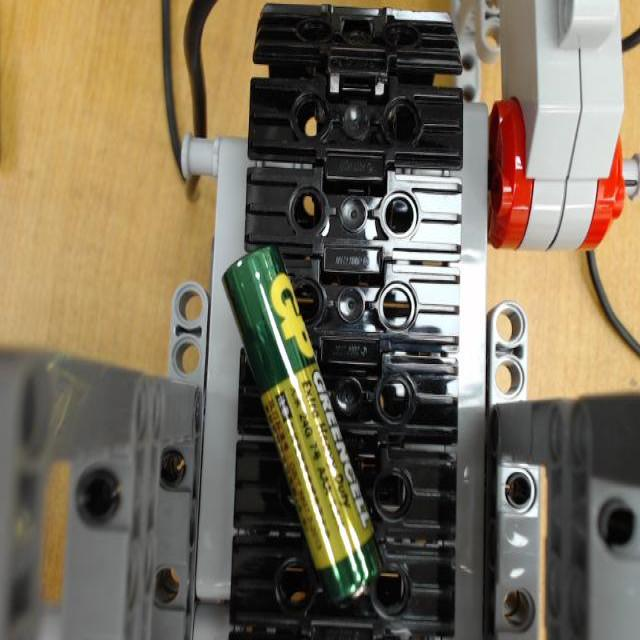AAA: (222, 242, 383, 606)
